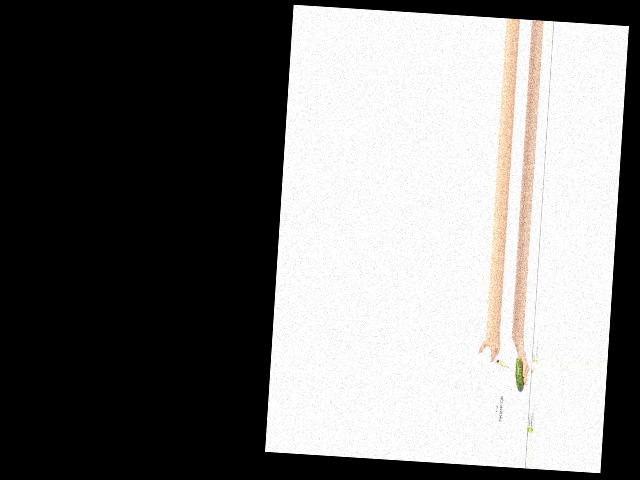cucumber: (514, 357, 525, 391)
